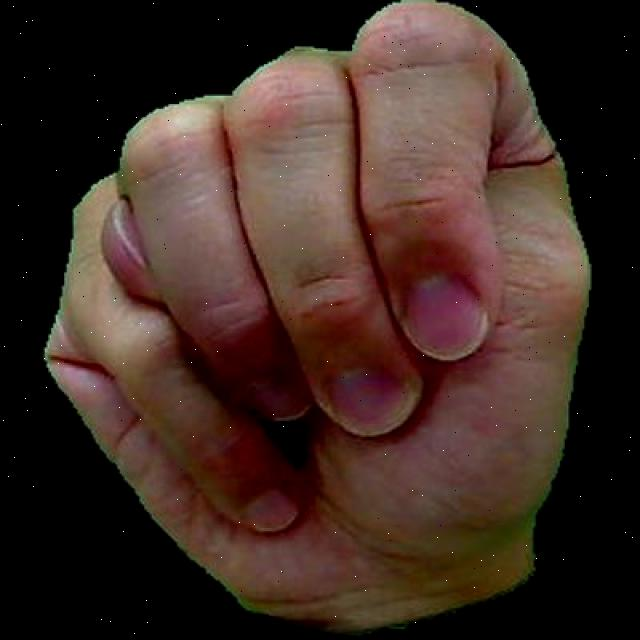m: (22, 0, 612, 637)
